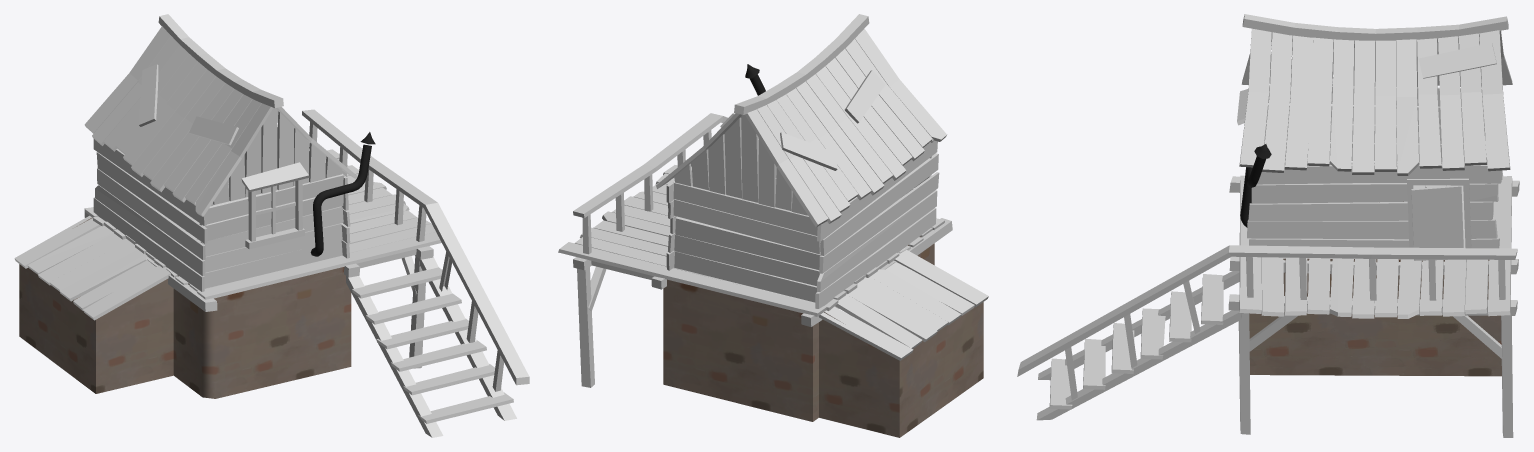
File: Home.FBX
3 views of the same model, side by side, from view 1: azimuth 30°, elevation 25°; view 2: azimuth 150°, elevation 25°; view 3: azimuth 270°, elevation 25° (orthographic). The views are drawn at different scales.
Visible parts, largest first — view 1: Object006, Object005, Object007; view 2: Object006, Object005; view 3: Object006, Object005, Object007.
Part boxes in pixels (<box>): Object006: <box>14,14,529,437</box>; Object005: <box>19,217,351,398</box>; Object007: <box>310,132,375,256</box>; Object006: <box>558,14,988,387</box>; Object005: <box>663,236,983,437</box>; Object006: <box>1017,14,1519,437</box>; Object005: <box>1249,201,1501,376</box>; Object007: <box>1240,144,1271,227</box>.
Size of the model in its own units: 204 by 180 by 240.
